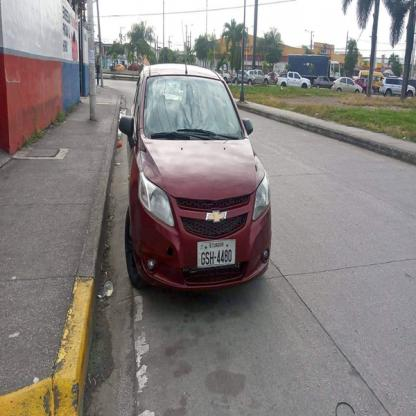Placa: (196, 241, 240, 269)
